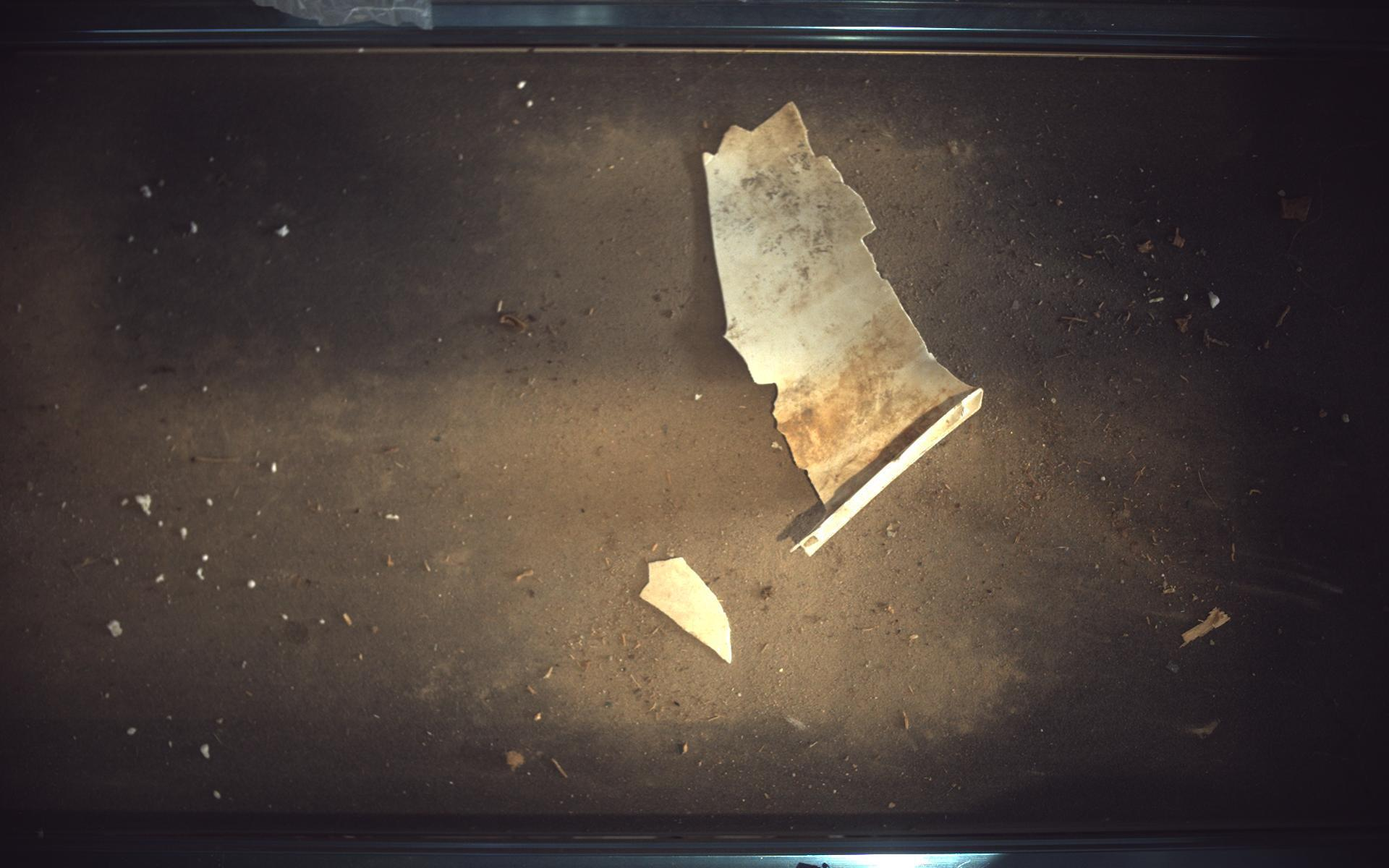plastic: (705, 101, 985, 556), (641, 558, 732, 664)
